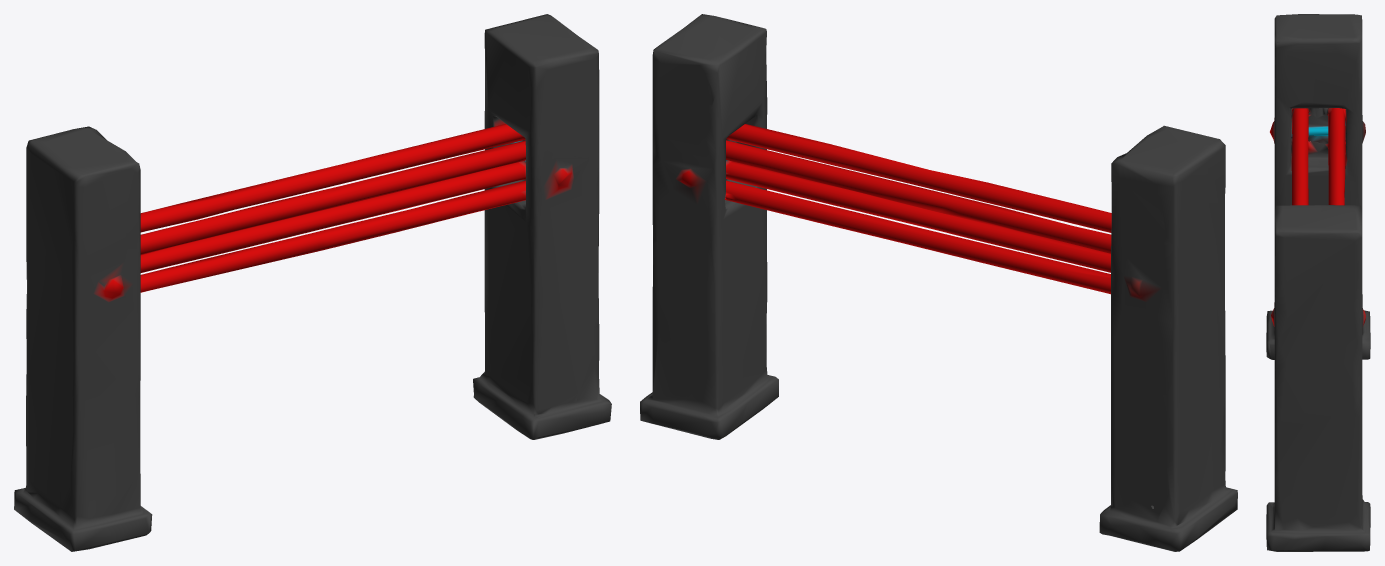
File: gen3d-laser-gate-lod0.glb
The picture shows the model from 3 angles, left to right: view 1: azimuth 30°, elevation 25°; view 2: azimuth 150°, elevation 25°; view 3: azimuth 270°, elevation 25°; orthographic projection. The views are drawn at different scales.
Visible parts, largest first — view 1: part_0; view 2: part_0; view 3: part_0.
Part boxes in pixels (left/top/right/bottom): part_0: left=14, top=14, right=611, bottom=551; part_0: left=640, top=14, right=1237, bottom=551; part_0: left=1266, top=14, right=1370, bottom=551.
Bounding box in the file's own units: 1.52 × 1 × 0.2972.
